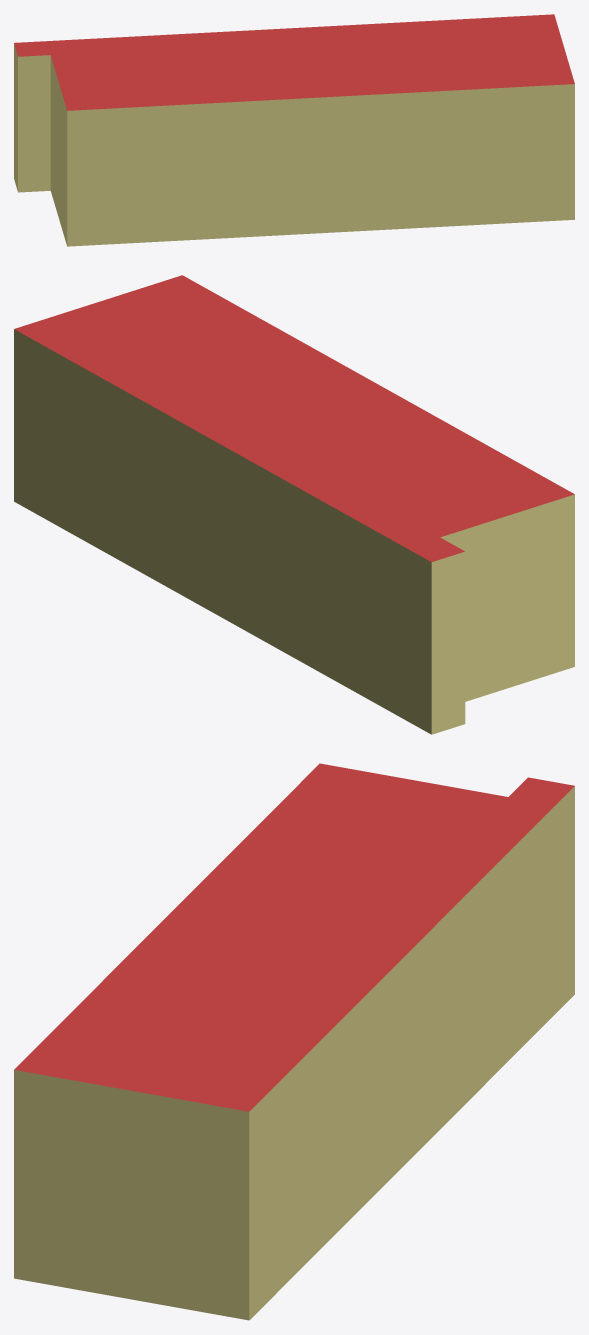
The picture shows the model from 3 angles, top to bottom: view 1: azimuth 30°, elevation 25°; view 2: azimuth 150°, elevation 25°; view 3: azimuth 270°, elevation 25°; orthographic projection. The views are drawn at different scales.
Bounding box in the file's own units: 23.28 × 15.85 × 6.51.
